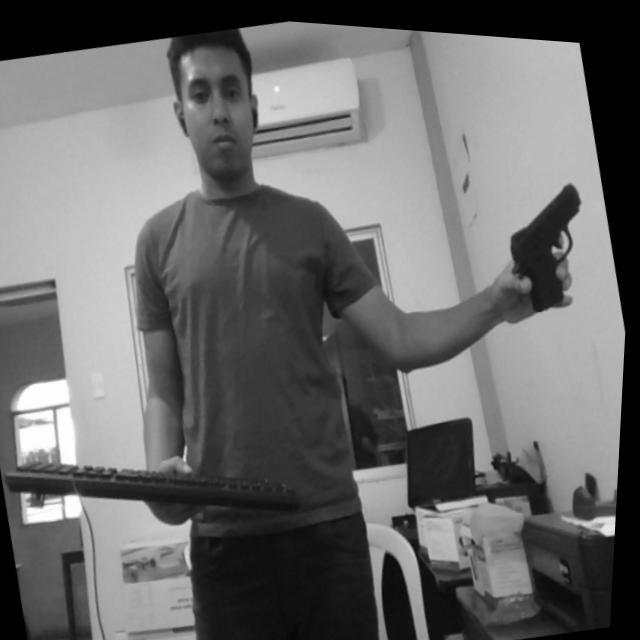weapon: (495, 168, 608, 314)
